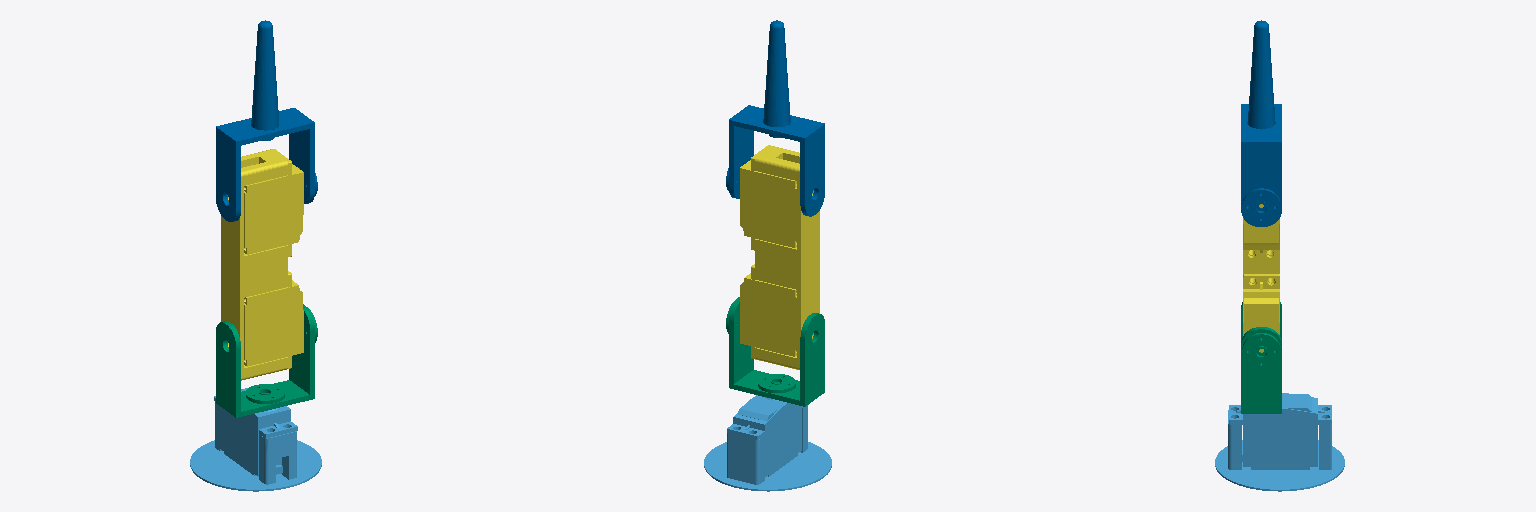
The robot description file, URDF, robot "my_arm":
<?xml version="1.0"?>
<robot name="my_arm">
    <link name="world"/>
    <link name="base_link">
        <visual>
            <geometry>
                <mesh filename="package://robot_arm_stl/base_link.stl"/>
            </geometry>
            <material name="red"/>
        </visual>
    </link>

    <joint name="fixed" type="fixed">
        <parent link="world"/>
        <child  link="base_link"/>
    </joint>

    <link name="link1">
        <visual>
            <geometry>
                <mesh filename="package://robot_arm_stl/link1.stl"/>
            </geometry>
            <materilal name="red"/>
        </visual>
    </link>
            
    <joint name="join1" type="revolute">
        <axis xyz="0 0 1"/>
        <parent link="base_link"/>
        <child  link="link1"/>
        <origin rpy="0 0 0" xyz="0.0 0.0 0.0437"/>
        <limit lower="-1.5708" upper="1.5708" effort="0.32" velocity="4.56"/>
    </joint>

    <link name="link2">
        <visual>
            <geometry>
                <mesh filename="package://robot_arm_stl/link2.stl"/>
            </geometry>
            <materilal name="red"/>

        </visual>
    </link>
            
    <joint name="join2" type="revolute">
        <axis xyz="1 0 0"/>
        <parent link="link1"/>
        <child  link="link2"/>
        <origin rpy="0 0 0" xyz="0.0 0.0 0.035"/>
        <limit lower="-1.5708" upper="1.5708" effort="0.32" velocity="4.56"/>
    </joint>

    <link name="link3">
        <visual>
            <geometry>
                <mesh filename="package://robot_arm_stl/link3.stl"/>
            </geometry>
            <materilal name="red"/>

        </visual>
    </link>
            
    <joint name="join3" type="revolute">
        <axis xyz="1 0 0"/>
        <parent link="link2"/>
        <child  link="link3"/>
        <origin rpy="0 0 0" xyz="0.0 0.0 0.085799"/>
        <limit lower="-1.5708" upper="1.5708" effort="0.32" velocity="4.56"/>
    </joint>
    <link name = "end_link">
       <visual>
         <geometry>
             <box size="0.0001 0.0001 0.0001"/>
         </geometry>
       </visual>
    </link>

    <joint name="end_fixed" type="fixed">
        <parent link="link3"/>
        <child  link="end_link"/>
       <origin rpy="0 0 0" xyz="0.0 0.0 0.098"/>

    </joint>  
</robot>

--- What the picture shows (computed from the rendered views, not written in the file) ---
3 views of the same robot in one strip: view 1: azimuth 30°, elevation 25°; view 2: azimuth 150°, elevation 25°; view 3: azimuth 270°, elevation 25° (orthographic).
Model my_arm with 6 links and 5 joints (3 revolute, 2 fixed), rooted at world, posed all joints at 0.
Visible links, largest first — view 1: link2, base_link, link3, link1; view 2: link2, base_link, link3, link1; view 3: base_link, link3, link2, link1.
Link boxes in pixels (x1,y1,x2,y2): link2: (221,149,303,380); base_link: (190,388,321,491); link3: (216,20,317,221); link1: (216,304,317,417); link2: (740,145,819,369); base_link: (704,395,831,491); link3: (726,20,824,216); link1: (726,297,824,406); base_link: (1215,393,1344,491); link3: (1241,20,1281,226); link2: (1243,204,1279,352); link1: (1241,302,1281,413).
Bounding box of the posed robot: 0.07 × 0.07 × 0.2625 m (x, y, z).
4 mesh visuals loaded from 4 distinct referenced files (4 binary STL).